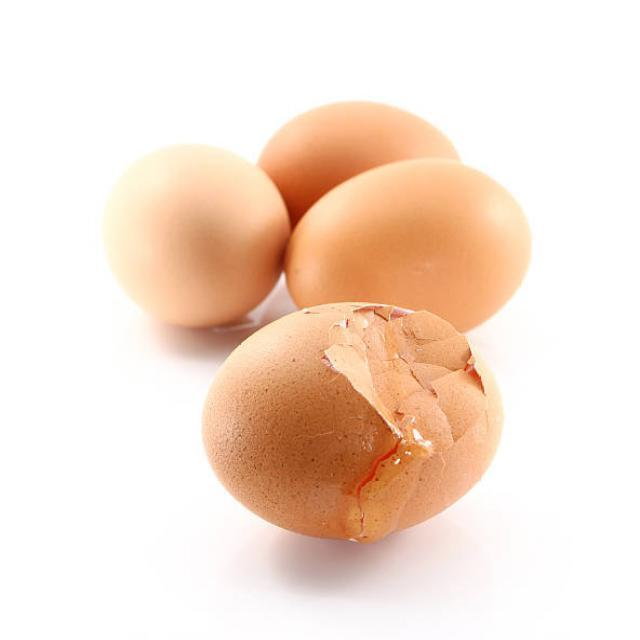biodegradable: (191, 298, 507, 547), (280, 151, 537, 293), (258, 93, 466, 254), (101, 139, 282, 294)
